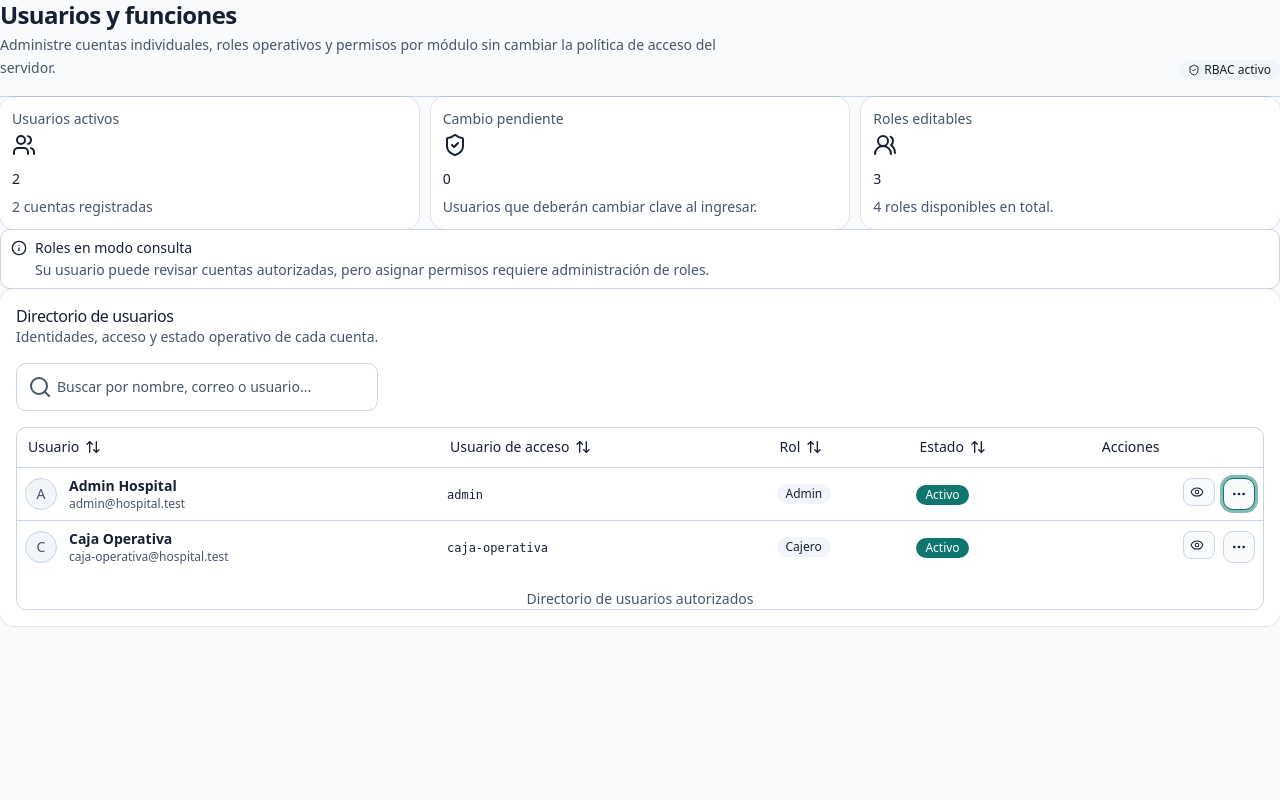
UsersView › does not offer demoting the only active administrator
Click the button named "Acciones de usuario Admin Hospital" at (1239, 494), box [1223, 478, 1255, 510]
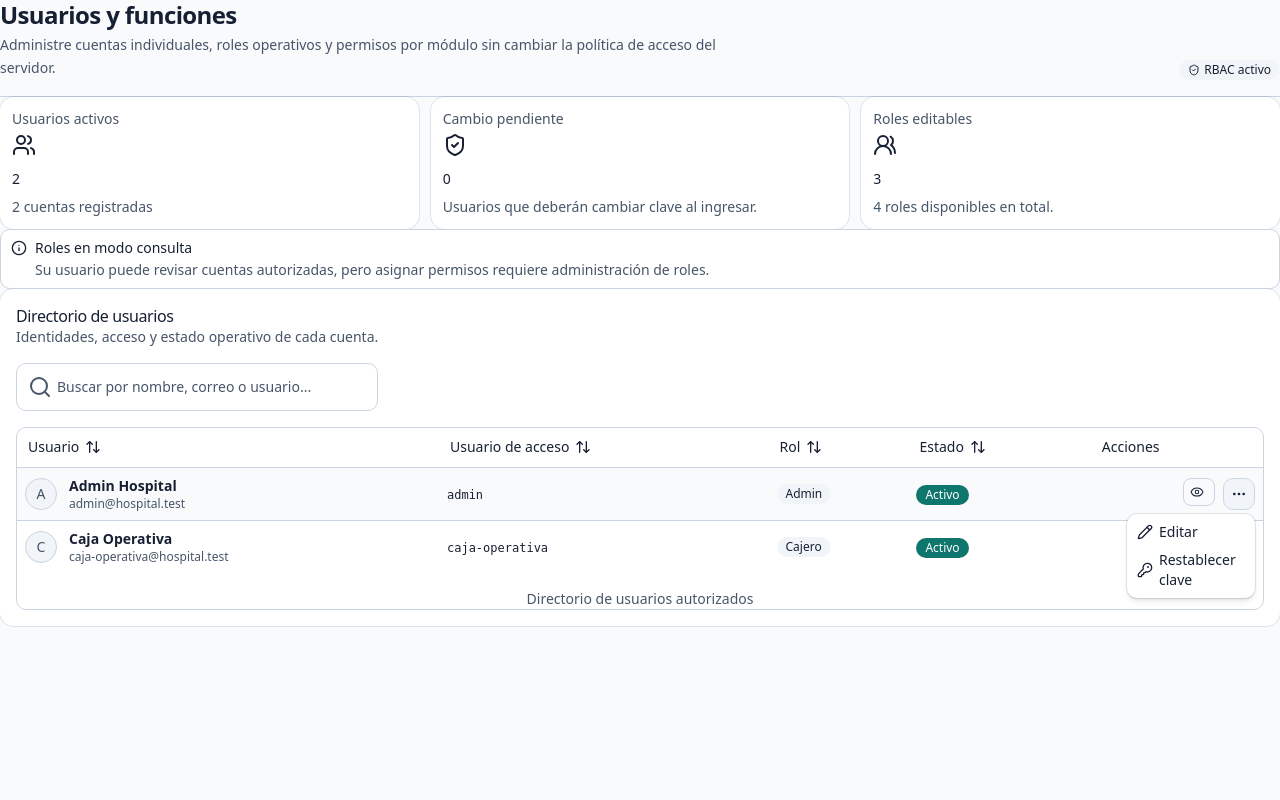
Click the menu item "Editar" at (1167, 532), box [1137, 522, 1198, 541]
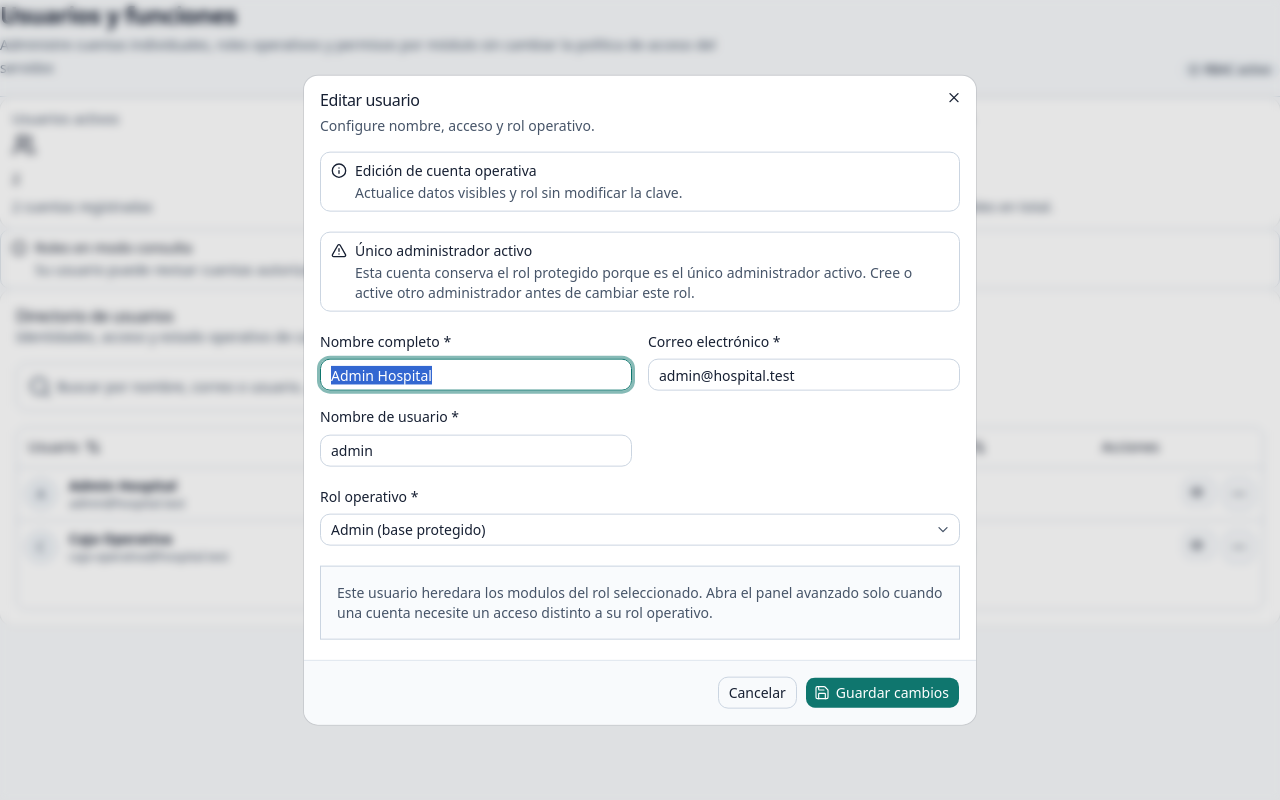
Check: the text "conserva el rol protegido" is shown, box [355, 263, 912, 302]
Click the dropdown named "rol operativo" at (352, 529), box [320, 513, 960, 545]
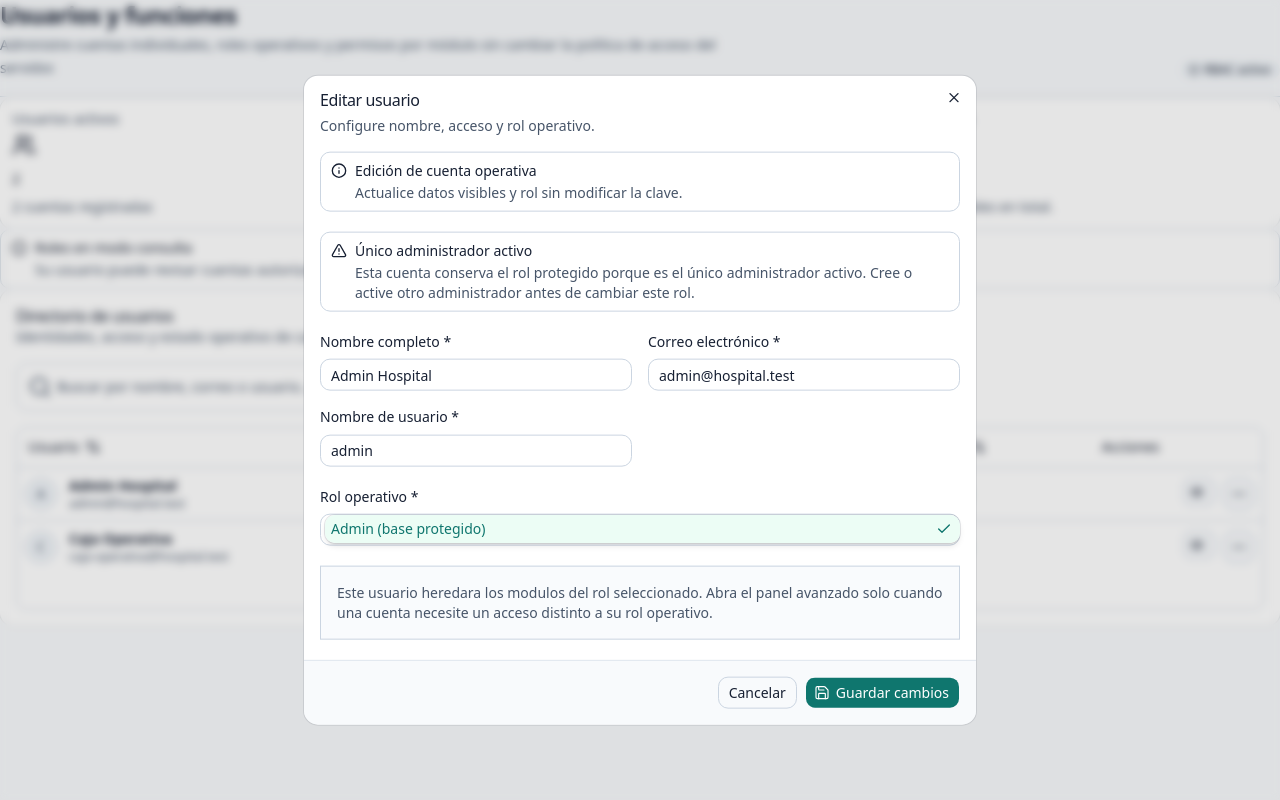
Check: the option "Admin (base protegido)" is shown, box [325, 515, 960, 543]
